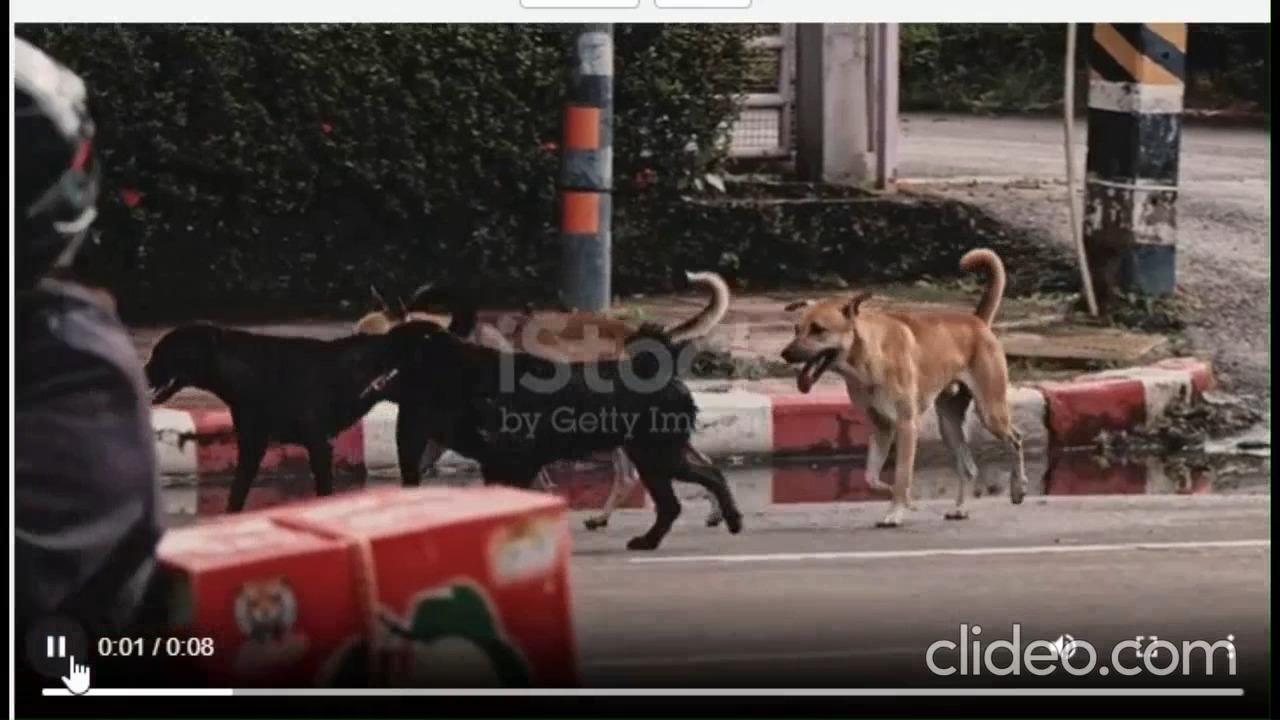dog: (354, 325, 744, 545), (767, 244, 1029, 519), (134, 318, 397, 507)
